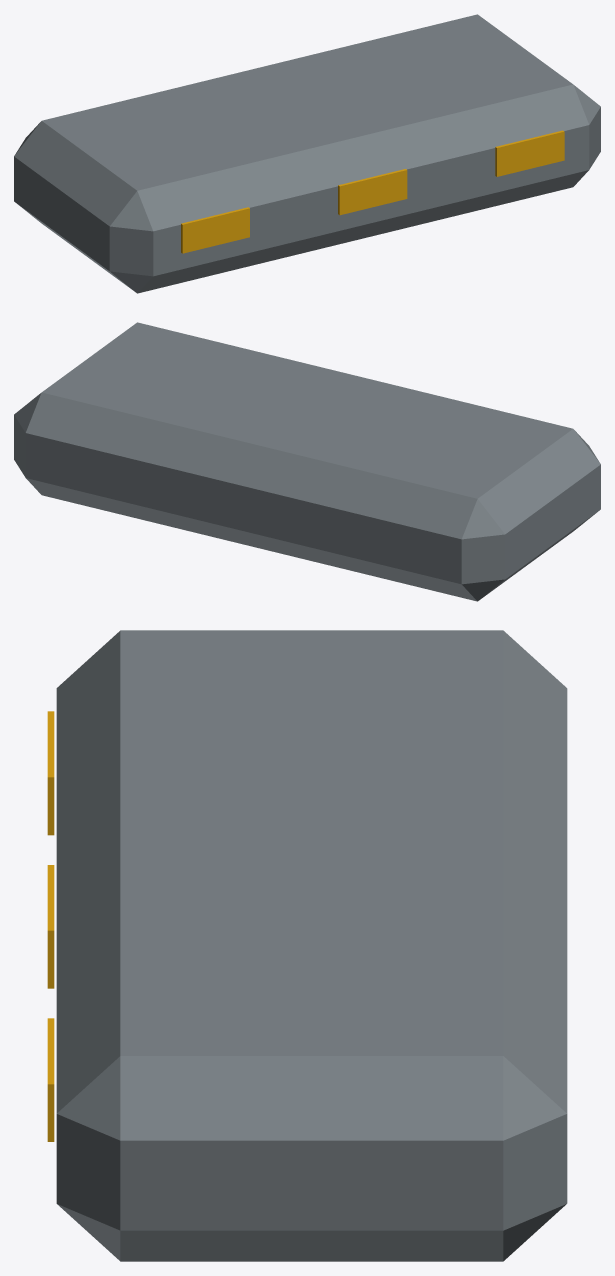
Rendered from ConcreteIslandShort.fbx.
3 views of the same model, one above another, from view 1: azimuth 30°, elevation 25°; view 2: azimuth 150°, elevation 25°; view 3: azimuth 270°, elevation 25° (orthographic). The views are drawn at different scales.
Parts seen in each view (by area): view 1: ConcreteIslandShort; view 2: ConcreteIslandShort; view 3: ConcreteIslandShort.
Boxes of the visible parts, left/top/right/bottom form: ConcreteIslandShort: left=14, top=14, right=600, bottom=293; ConcreteIslandShort: left=14, top=322, right=600, bottom=601; ConcreteIslandShort: left=47, top=630, right=567, bottom=1261.
Bounding box in the file's own units: 160 × 32 × 73.25.
Materials: 1 (1 with a texture image).
